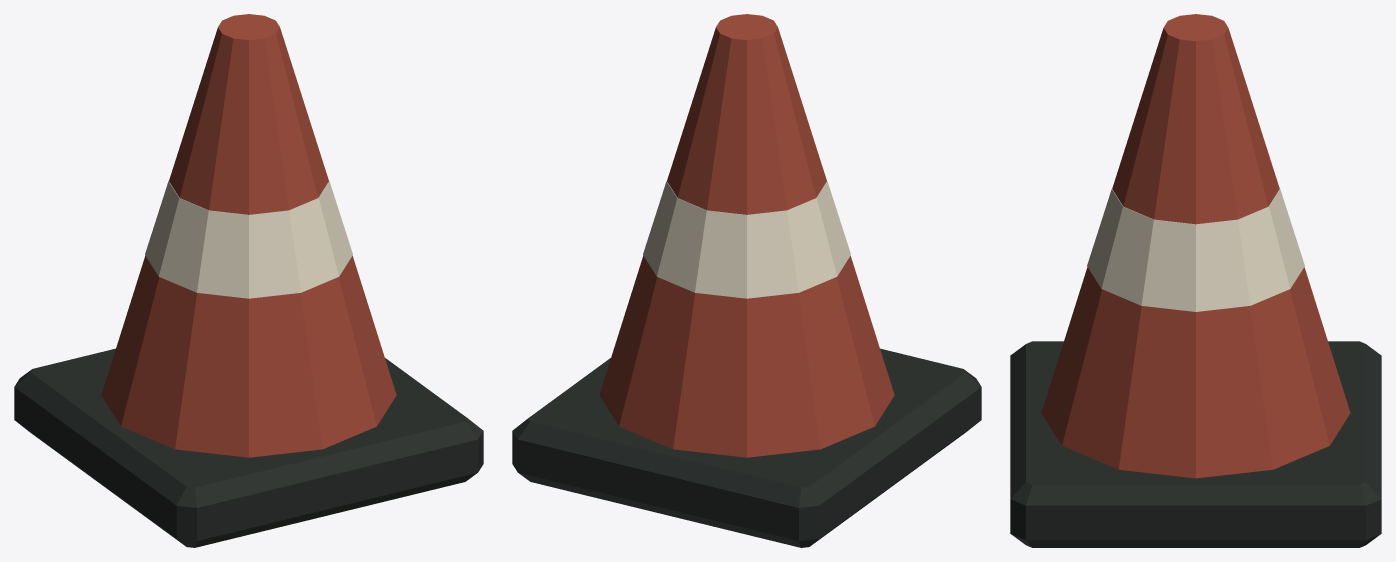
Rendered from traffic-cone.glb.
The picture shows the model from 3 angles, left to right: view 1: azimuth 30°, elevation 25°; view 2: azimuth 150°, elevation 25°; view 3: azimuth 270°, elevation 25°; orthographic projection. The views are drawn at different scales.
Parts seen in each view (by area): view 1: traffic-cone; view 2: traffic-cone; view 3: traffic-cone.
Part boxes in pixels (x1=…): traffic-cone: x1=14, y1=14, x2=483, y2=547; traffic-cone: x1=512, y1=14, x2=981, y2=547; traffic-cone: x1=1010, y1=14, x2=1381, y2=547.
Size of the model in its own units: 0.48 by 0.64 by 0.48.
